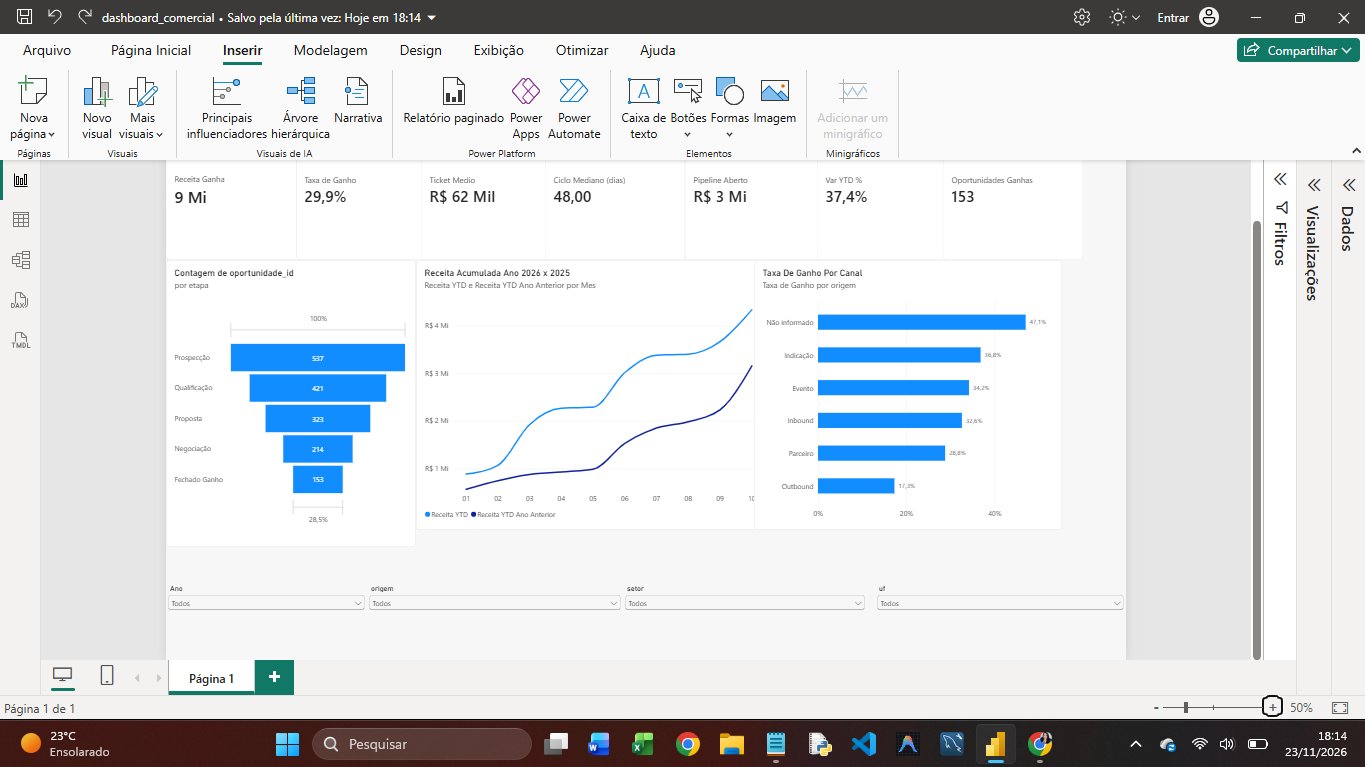

Layout of this report page (visuals, bound fields, positions):
{"tool":"powerbi","page":{"name":"Página 1","canvas":[1920,1080],"ordinal":0},"visuals":[{"type":"cardVisual","fields":{"Data":["oportunidades.Receita Ganha"]},"box":[0,0,280,280],"z":0},{"type":"cardVisual","fields":{"Data":["oportunidades.Taxa de Ganho"]},"box":[260.5,0,282.2,279.7],"z":1000},{"type":"cardVisual","fields":{"Data":["oportunidades.Ticket Medio"]},"box":[509.3,0,280,280],"z":2000},{"type":"cardVisual","fields":{"Data":["oportunidades.Ciclo Mediano (dias)"]},"box":[758.1,0,280,280],"z":3000},{"type":"cardVisual","fields":{"Data":["oportunidades.Pipeline Aberto"]},"box":[1037.2,0,280,280],"z":4000},{"type":"cardVisual","fields":{"Data":["oportunidades.Var YTD %"]},"box":[1302.3,0,280,280],"z":5000},{"type":"cardVisual","fields":{"Data":["oportunidades.Oportunidades Ganhas"]},"box":[1553.5,0,280,280],"z":6000},{"type":"funnel","fields":{"Category":["funil_etapas.etapa"],"Y":["Count(funil_etapas.oportunidade_id)"]},"box":[0,279.1,500,574.4],"z":7000},{"type":"lineChart","title":"Receita Acumulada Ano 2026 x 2025","fields":{"Category":["Calendario.Mes"],"Y":["oportunidades.Receita YTD","oportunidades.Receita YTD Ano Anterior"]},"box":[500,279.1,714,539.5],"z":8000},{"type":"clusteredBarChart","title":"Taxa De Ganho Por Canal","fields":{"Category":["oportunidades.origem"],"Y":["oportunidades.Taxa de Ganho"]},"box":[1176.7,279.1,616.3,539.5],"z":9000},{"type":"slicer","fields":{"Values":["Calendario.Ano"]},"box":[0,927.9,402.3,151.2],"z":10000},{"type":"slicer","fields":{"Values":["oportunidades.origem"]},"box":[402.3,927.9,511.6,151.2],"z":11000},{"type":"slicer","fields":{"Values":["contas.setor"]},"box":[914,927.9,488.4,137.2],"z":12000},{"type":"slicer","fields":{"Values":["contas.uf"]},"box":[1418.6,927.9,502.3,148.8],"z":13000},{"type":"textbox","box":[100,100,300,300],"z":14000}]}

Visuals, with their boxes on the page's 1920x1080 design canvas (x1, y1, x2, y2). These are canvas units, not pixel positions in the 1365x767 screenshot, which may show the page scaled, cropped or inside an application window:
cardVisual - oportunidades.Receita Ganha: box=[0, 0, 280, 280]
cardVisual - oportunidades.Taxa de Ganho: box=[260, 0, 543, 280]
cardVisual - oportunidades.Ticket Medio: box=[509, 0, 789, 280]
cardVisual - oportunidades.Ciclo Mediano (dias): box=[758, 0, 1038, 280]
cardVisual - oportunidades.Pipeline Aberto: box=[1037, 0, 1317, 280]
cardVisual - oportunidades.Var YTD %: box=[1302, 0, 1582, 280]
cardVisual - oportunidades.Oportunidades Ganhas: box=[1554, 0, 1834, 280]
funnel - funil_etapas.etapa x Count(funil_etapas.oportunidade_id): box=[0, 279, 500, 854]
"Receita Acumulada Ano 2026 x 2025" lineChart: box=[500, 279, 1214, 819]
"Taxa De Ganho Por Canal" clusteredBarChart: box=[1177, 279, 1793, 819]
slicer - Calendario.Ano: box=[0, 928, 402, 1079]
slicer - oportunidades.origem: box=[402, 928, 914, 1079]
slicer - contas.setor: box=[914, 928, 1402, 1065]
slicer - contas.uf: box=[1419, 928, 1921, 1077]
textbox: box=[100, 100, 400, 400]
